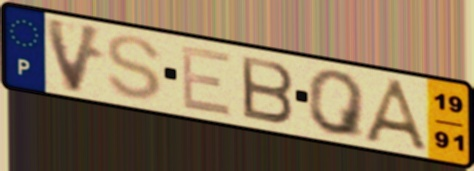A: (360, 76, 436, 156)
B: (238, 53, 297, 127)
E: (178, 43, 235, 120)
Q: (304, 69, 369, 142)
S: (104, 32, 165, 103)
V: (41, 14, 107, 97)
